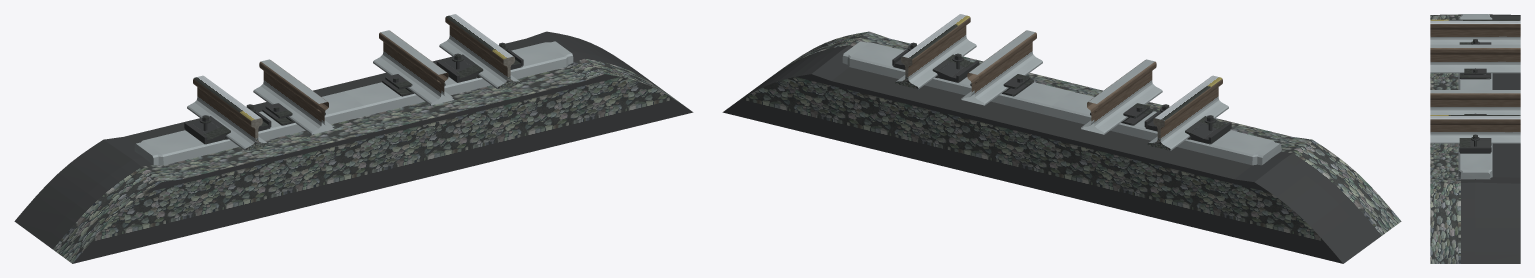
Rendered from center_guard_mid.obj.
3 views of the same model, side by side, from view 1: azimuth 30°, elevation 25°; view 2: azimuth 150°, elevation 25°; view 3: azimuth 270°, elevation 25° (orthographic). The views are drawn at different scales.
Visible parts, largest first — view 1: ballast, sleeper, center_guard_left, center_guard_right, rail_left, rail_right, fastener_left, fastener_right, center_fastener_left, center_fastener_right; view 2: ballast, sleeper, center_guard_left, center_guard_right, rail_left, rail_right, fastener_left, fastener_right, center_fastener_left, center_fastener_right; view 3: ballast, center_guard_left, rail_right, rail_left, center_guard_right, sleeper, fastener_right, center_fastener_left, fastener_left.
Part boxes in pixels (bbox=[...]): ballast: bbox=[14, 31, 693, 263]; sleeper: bbox=[134, 41, 573, 165]; center_guard_left: bbox=[253, 59, 334, 134]; center_guard_right: bbox=[373, 30, 454, 105]; rail_left: bbox=[187, 75, 266, 150]; rail_right: bbox=[439, 14, 519, 88]; fastener_left: bbox=[184, 104, 271, 144]; fastener_right: bbox=[436, 42, 523, 82]; center_fastener_left: bbox=[262, 103, 325, 125]; center_fastener_right: bbox=[382, 74, 445, 96]; ballast: bbox=[722, 31, 1401, 263]; sleeper: bbox=[842, 41, 1281, 165]; center_guard_left: bbox=[1081, 59, 1162, 134]; center_guard_right: bbox=[961, 30, 1042, 105]; rail_left: bbox=[1149, 75, 1228, 150]; rail_right: bbox=[896, 14, 976, 88]; fastener_left: bbox=[1144, 104, 1231, 144]; fastener_right: bbox=[892, 42, 979, 82]; center_fastener_left: bbox=[1090, 103, 1153, 125]; center_fastener_right: bbox=[970, 74, 1033, 96]; ballast: bbox=[1430, 14, 1520, 263]; center_guard_left: bbox=[1430, 44, 1520, 73]; rail_right: bbox=[1430, 115, 1520, 143]; rail_left: bbox=[1430, 19, 1520, 44]; center_guard_right: bbox=[1430, 90, 1520, 114]; sleeper: bbox=[1458, 14, 1492, 179]; fastener_right: bbox=[1459, 134, 1491, 153]; center_fastener_left: bbox=[1459, 68, 1491, 79]; fastener_left: bbox=[1459, 39, 1491, 44].
Bounding box in the file's own units: 3.7 × 0.5683 × 0.6.
